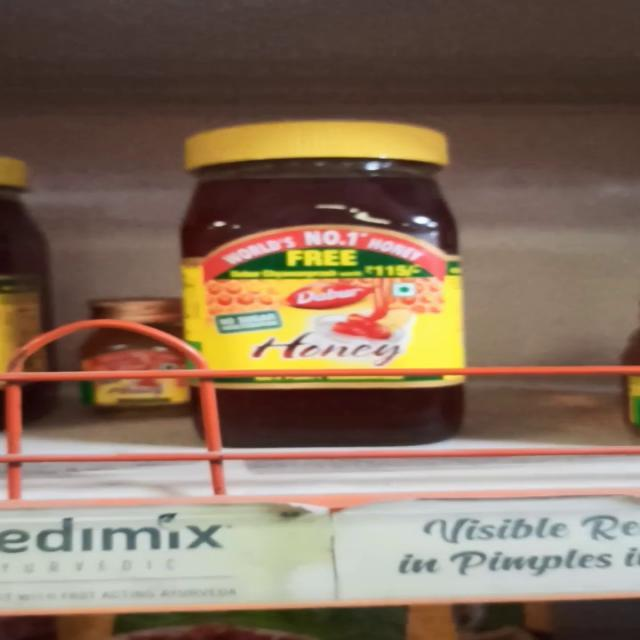Dabur Honey: (169, 120, 489, 442)
